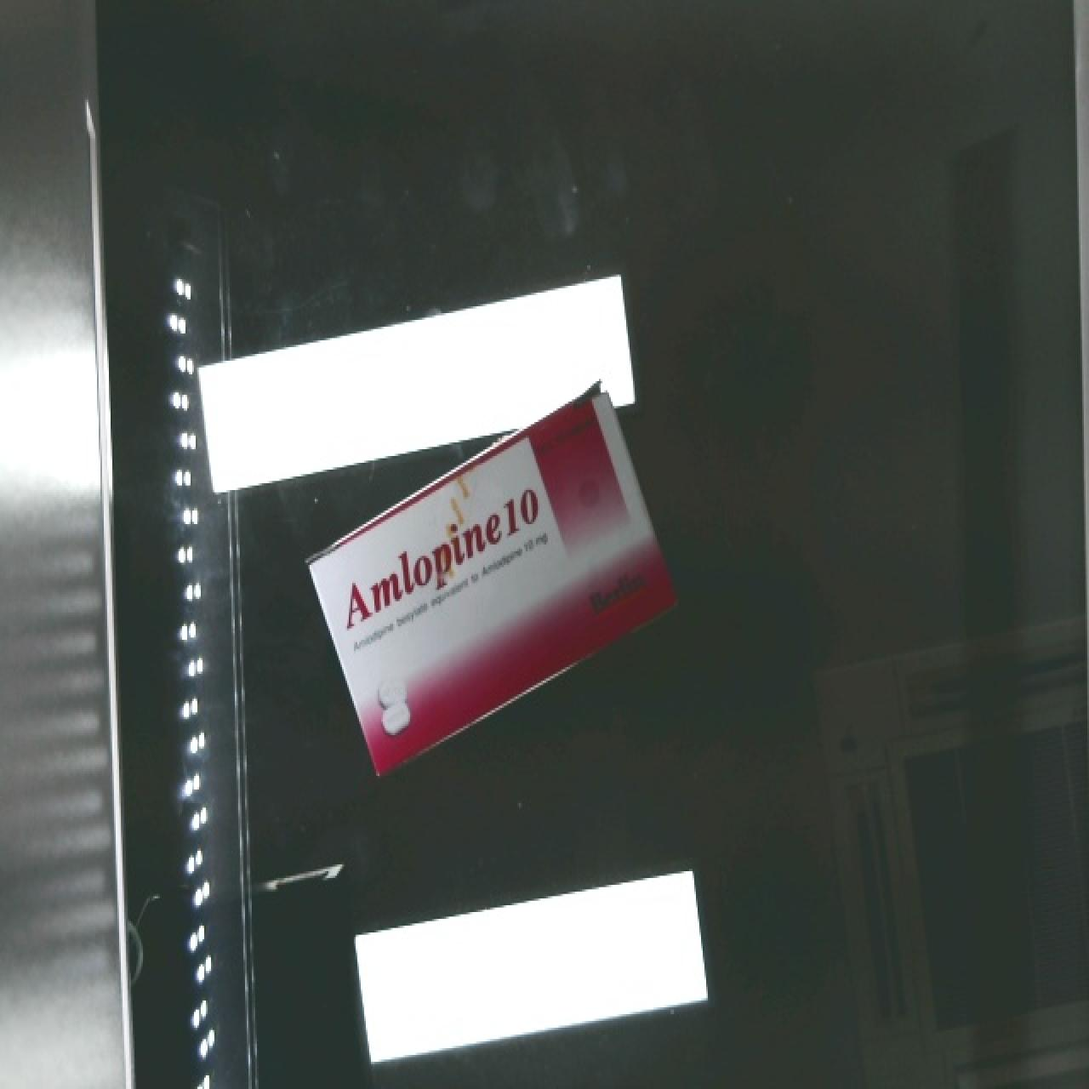medicine_label_obb: (306, 457, 567, 655)
